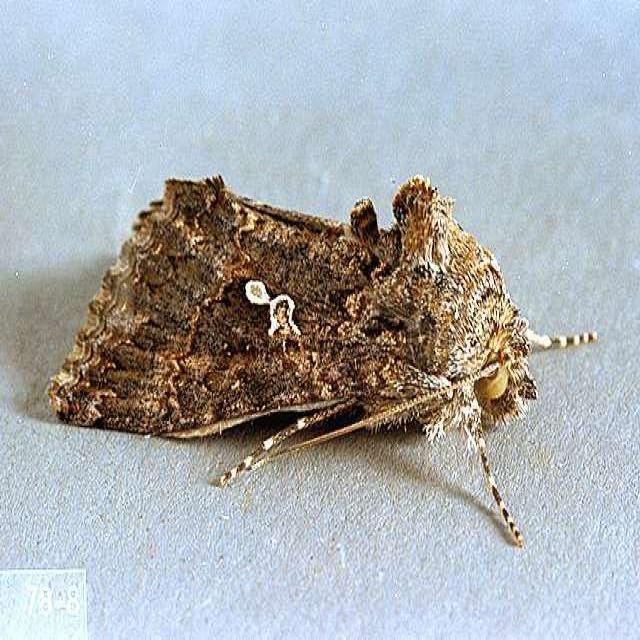armyworm: (61, 163, 588, 508)
